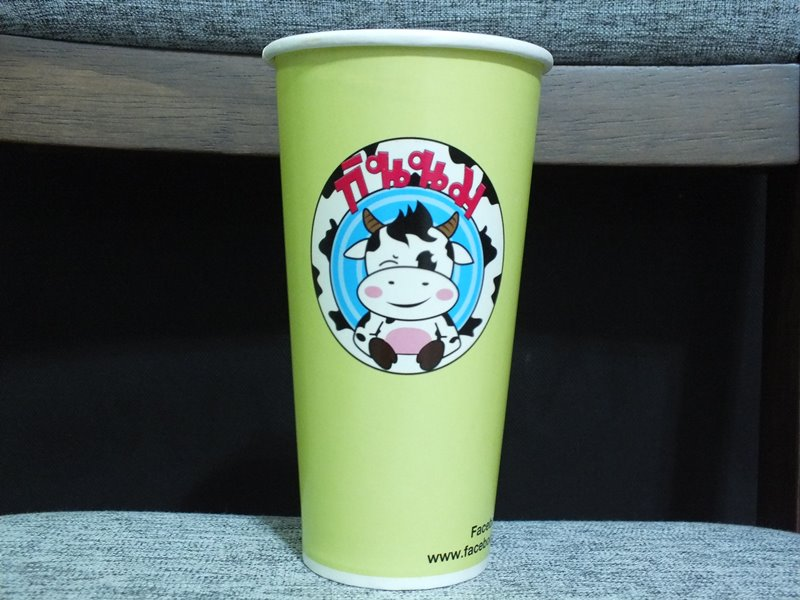PaperCup: (257, 27, 557, 591)
